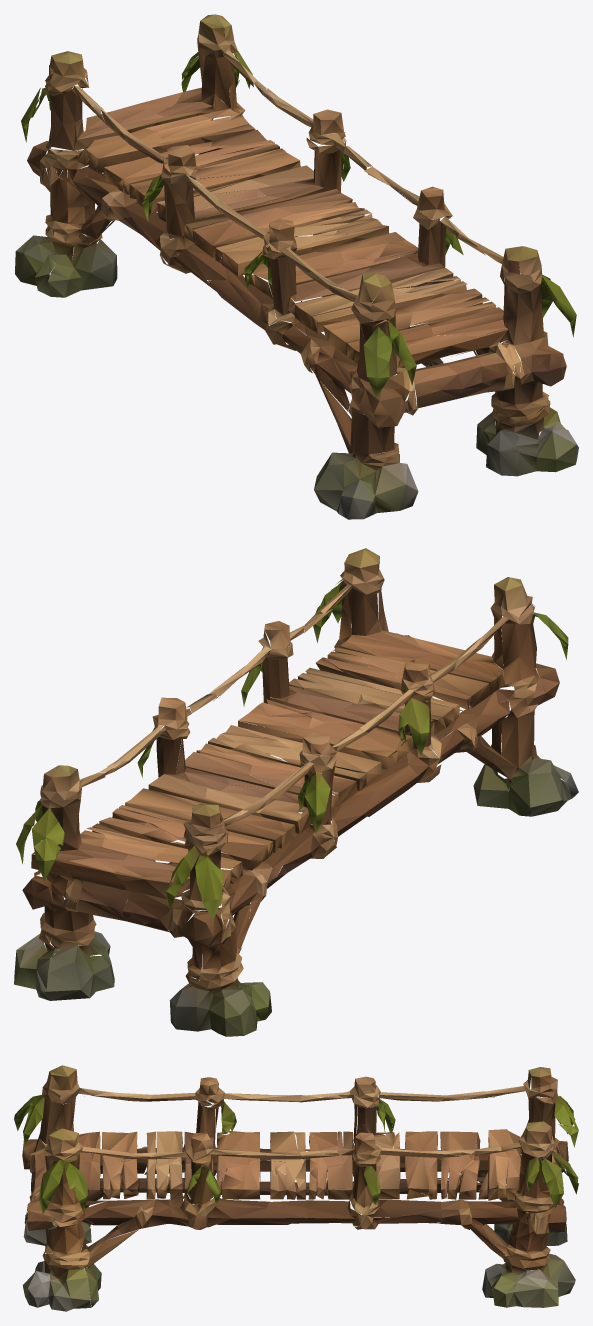
File: building-bridge-tripo.glb
3 views of the same model, one above another, from view 1: azimuth 30°, elevation 25°; view 2: azimuth 150°, elevation 25°; view 3: azimuth 270°, elevation 25° (orthographic). The views are drawn at different scales.
Parts seen in each view (by area): view 1: 0_bridge; view 2: 0_bridge; view 3: 0_bridge.
Part boxes in pixels (<box>): 0_bridge: <box>15,14,578,519</box>; 0_bridge: <box>14,548,578,1036</box>; 0_bridge: <box>14,1065,578,1311</box>.
Bounding box in the file's own units: 1.54 × 1.29 × 3.84.
